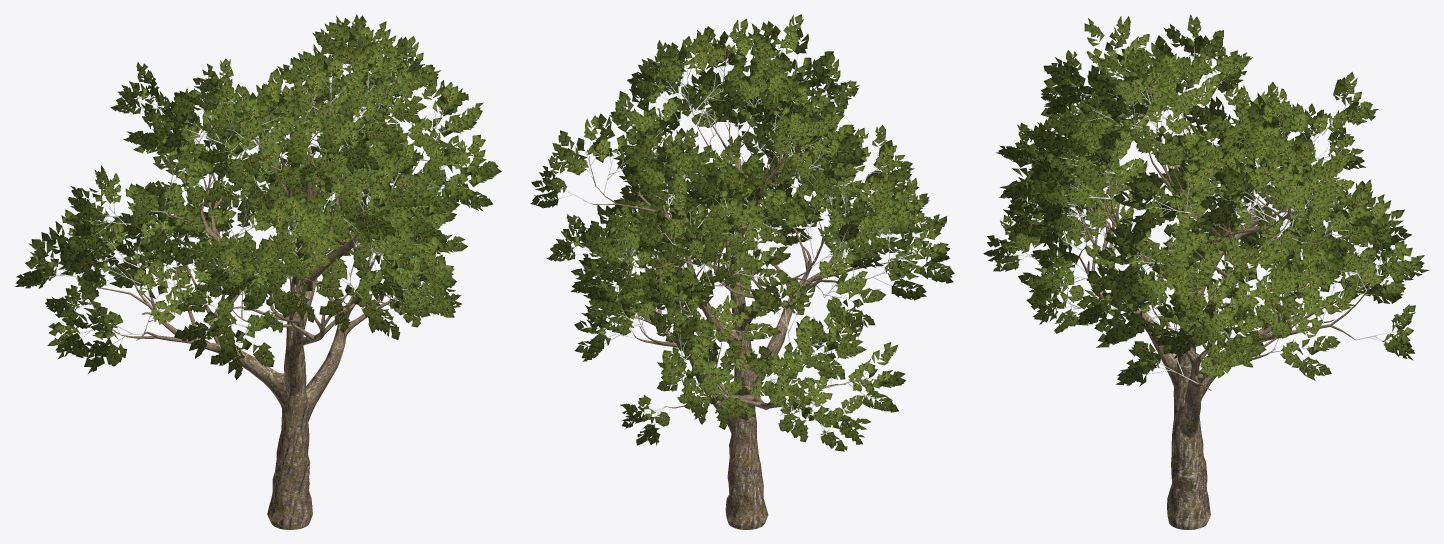
File: arvore para os campos.glb
The picture shows the model from 3 angles, left to right: view 1: azimuth 30°, elevation 25°; view 2: azimuth 150°, elevation 25°; view 3: azimuth 270°, elevation 25°; orthographic projection. The views are drawn at different scales.
Visible parts, largest first — view 1: Object_2, Object_3, Object_4; view 2: Object_2, Object_3, Object_4; view 3: Object_2, Object_3, Object_4.
Part boxes in pixels (<box>): Object_2: <box>15,14,501,379</box>; Object_3: <box>76,108,427,529</box>; Object_4: <box>40,36,470,365</box>; Object_2: <box>530,14,954,451</box>; Object_3: <box>588,103,900,529</box>; Object_4: <box>548,38,937,444</box>; Object_2: <box>983,14,1429,386</box>; Object_3: <box>1049,105,1370,529</box>; Object_4: <box>1005,43,1398,384</box>.
Bounding box in the file's own units: 112 × 144 × 117.
3 materials, 2 textured.
